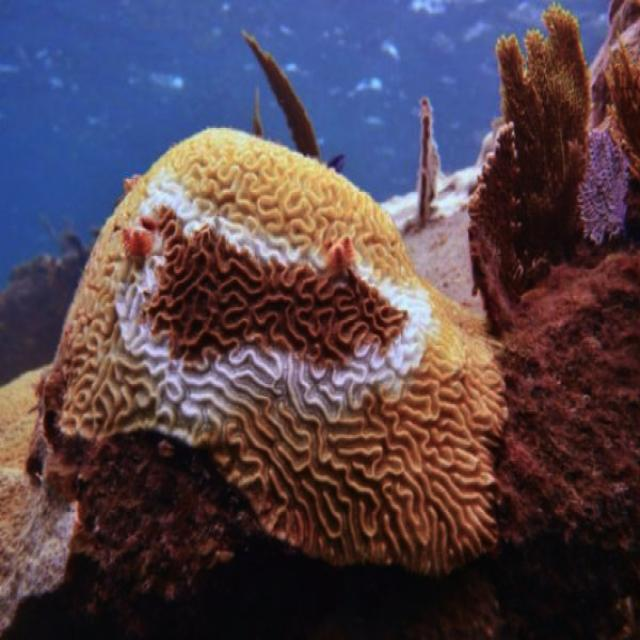Coral: (52, 126, 508, 576), (496, 0, 591, 297), (467, 121, 524, 340), (576, 128, 631, 245), (605, 29, 640, 185)
